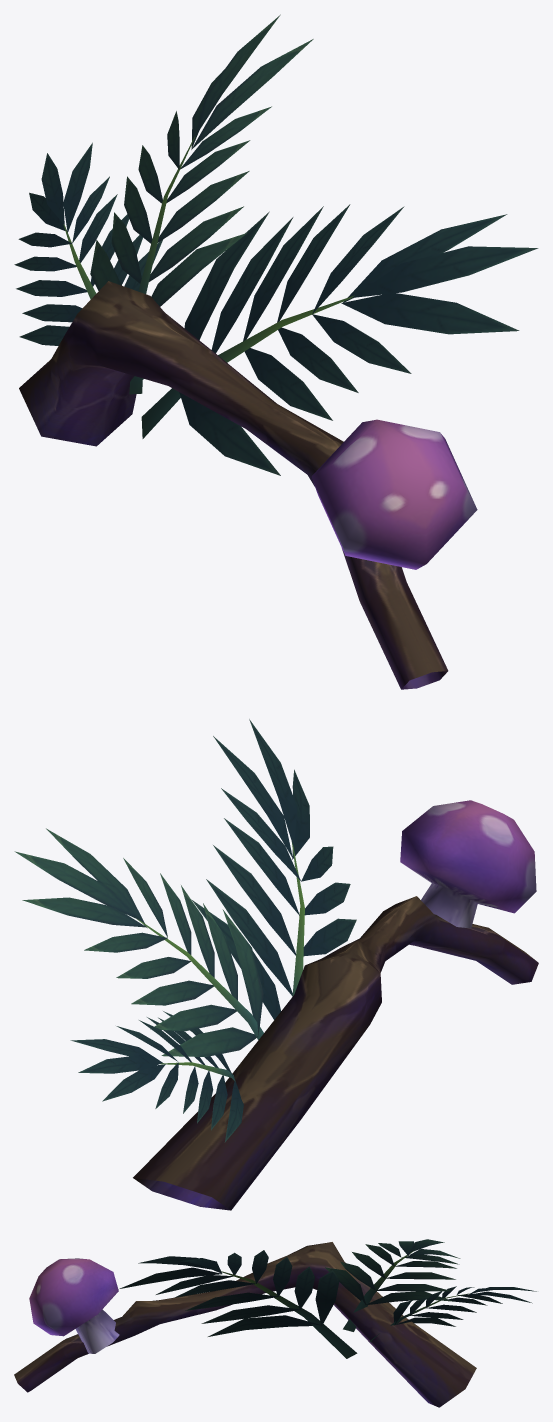
Rendered from scenes_demo_frontplant01a.FBX.
3 views of the same model, one above another, from view 1: azimuth 30°, elevation 25°; view 2: azimuth 150°, elevation 25°; view 3: azimuth 270°, elevation 25° (orthographic). The views are drawn at different scales.
Visible parts, largest first — view 1: scenes_demo_frontplant01a; view 2: scenes_demo_frontplant01a; view 3: scenes_demo_frontplant01a.
Part boxes in pixels (x1,y1,x2,y2): scenes_demo_frontplant01a: (14, 14, 538, 689); scenes_demo_frontplant01a: (14, 719, 538, 1210); scenes_demo_frontplant01a: (14, 1239, 536, 1407).
Size of the model in its own units: 222 by 258 by 563.
